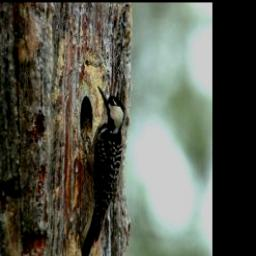Woodpecker: (70, 79, 132, 256)
